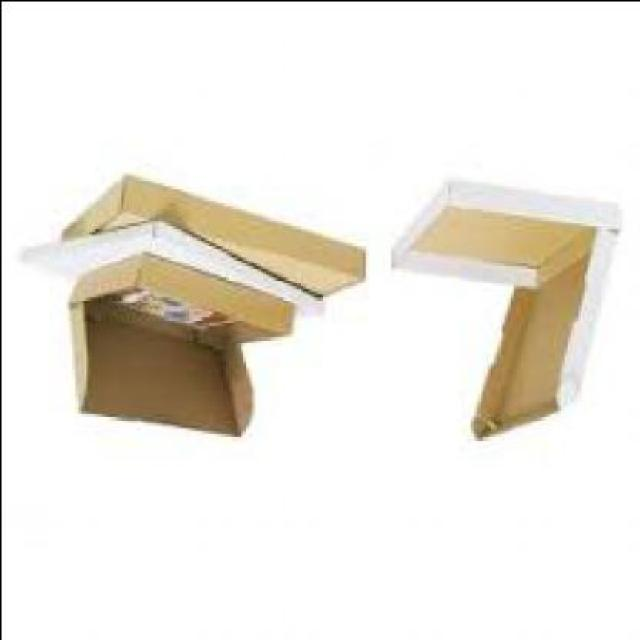CARDBOARD: (395, 185, 623, 442), (72, 253, 296, 438), (65, 176, 367, 299), (28, 218, 321, 324)
